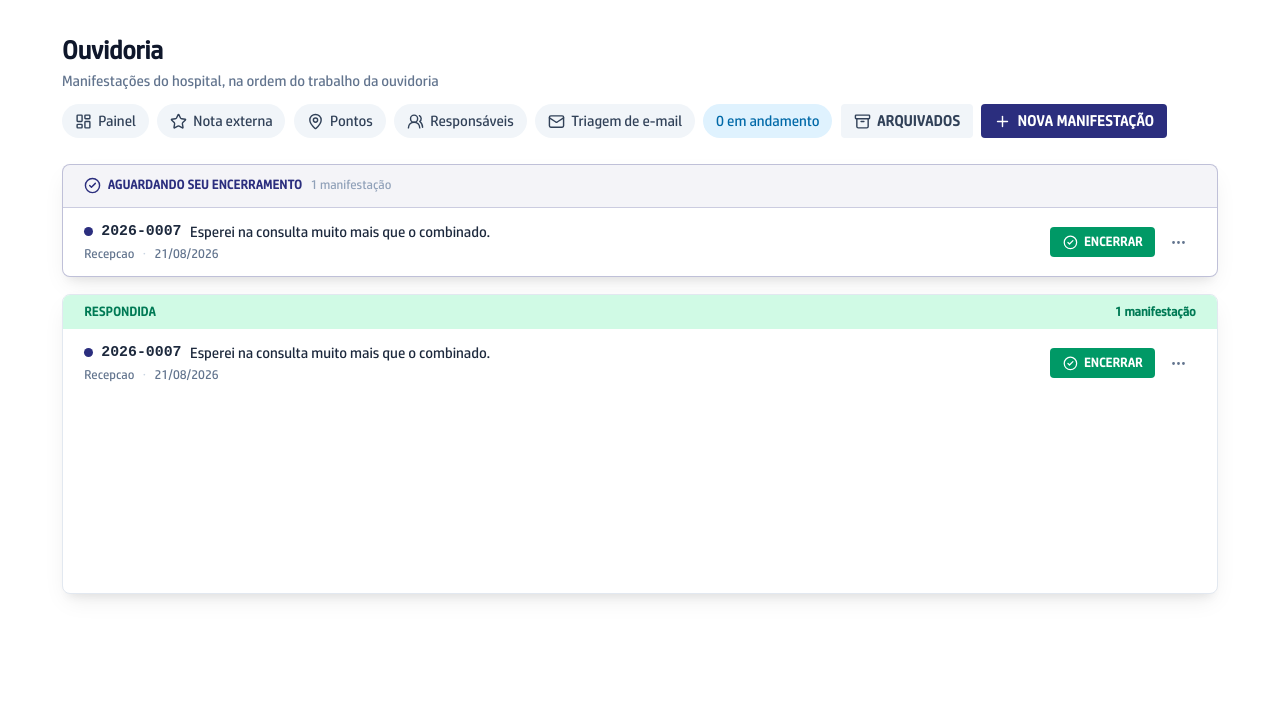
menu de ações da fila (issue #777) › a ação escolhida no menu acontece
Click the 1st button named "Mais ações da manifestação 2026-0007" at coordinates (1179, 242), box [1162, 225, 1196, 259]
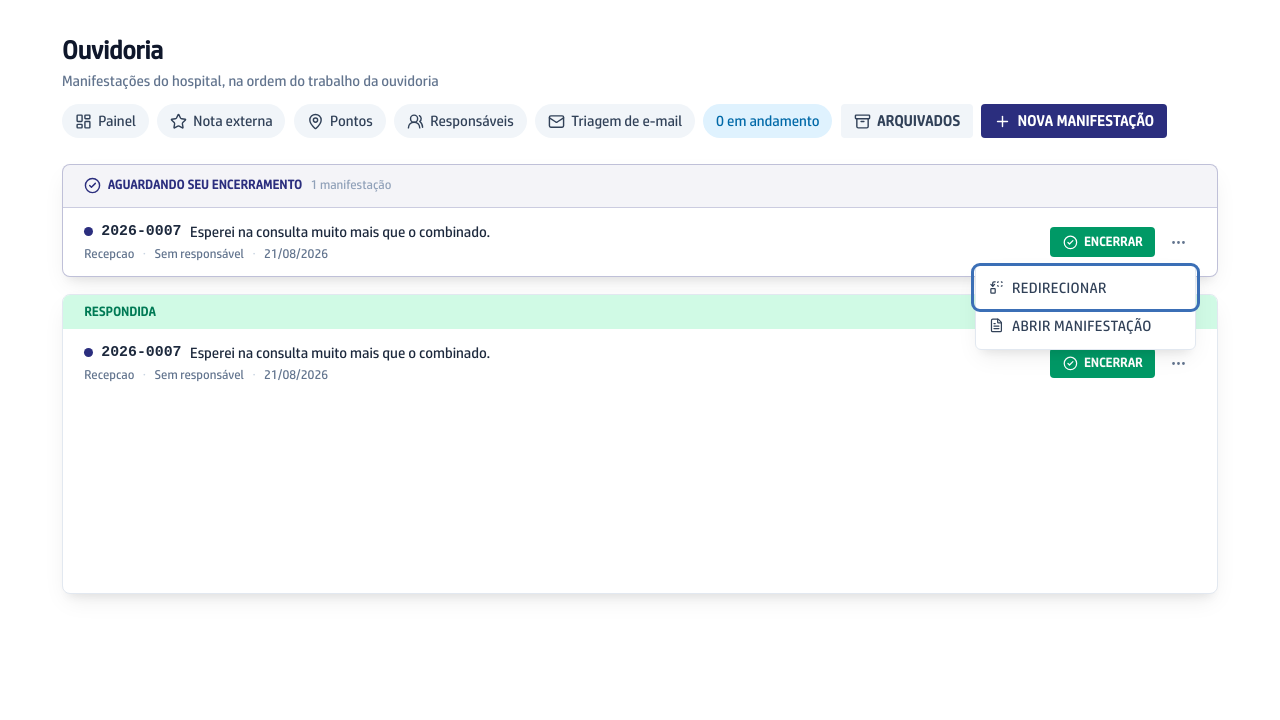
Click the button "Redirecionar" at coordinates (1085, 288), box [976, 268, 1195, 307]
(page scrolled)
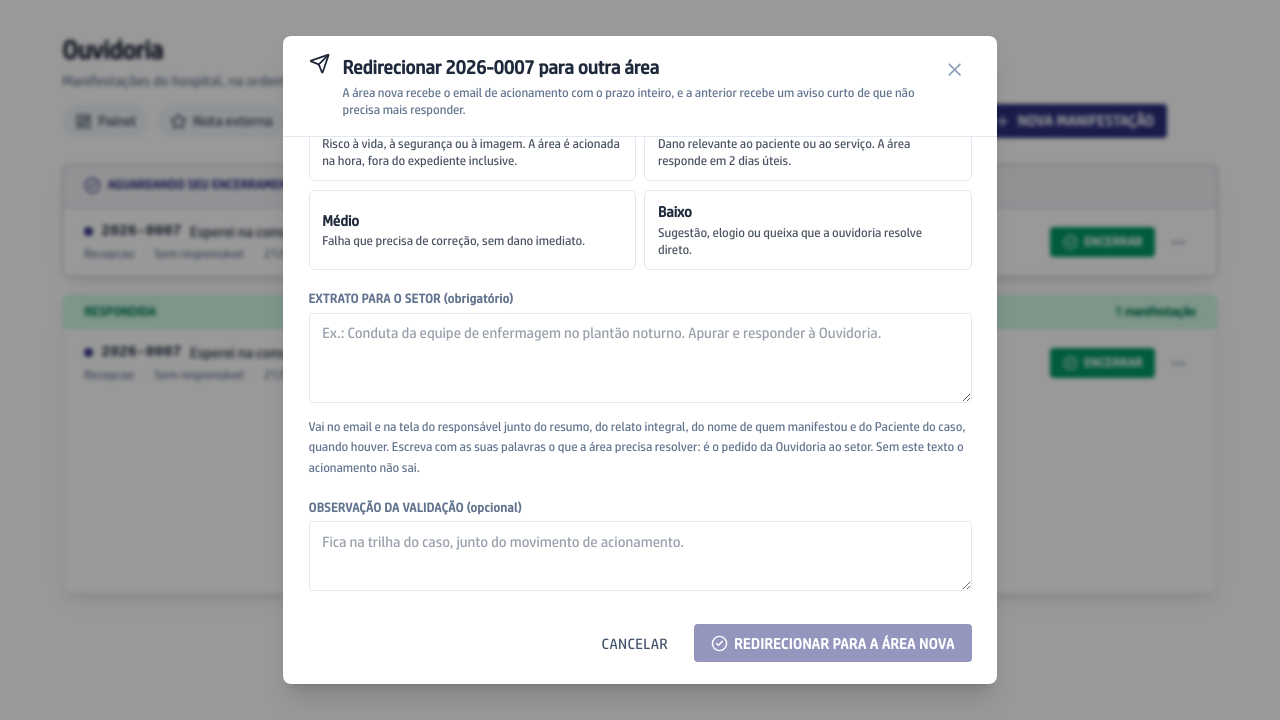
Result: the button "Redirecionar para a área nova" is shown at [694, 624, 972, 662]
